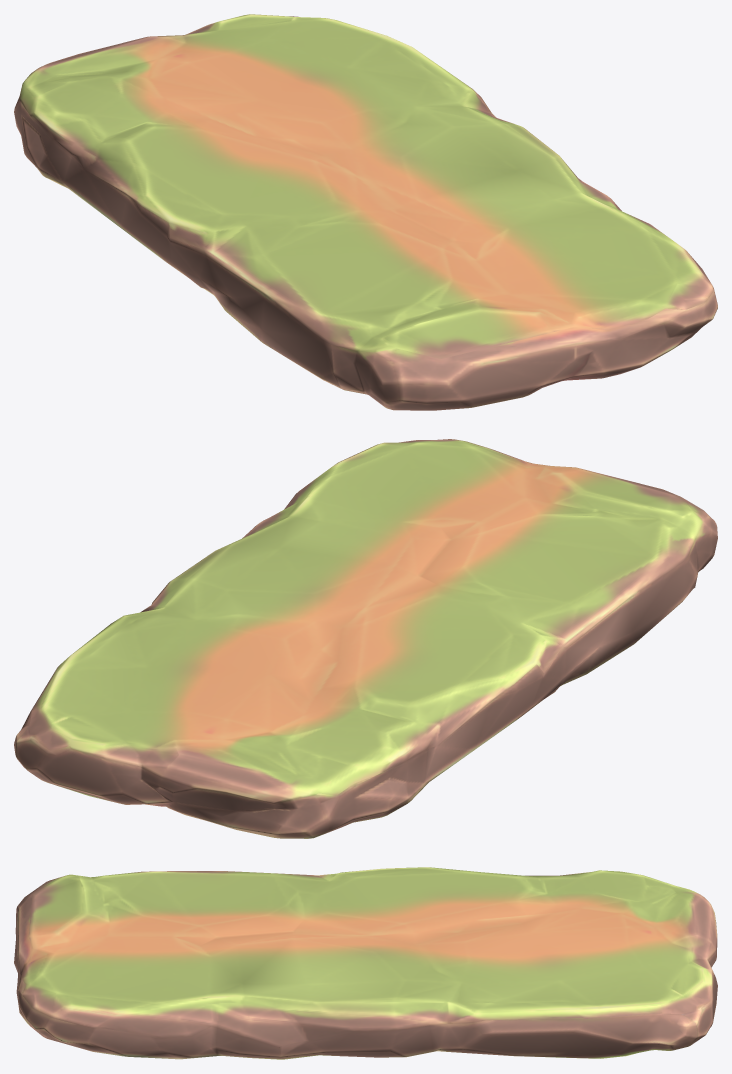
File: Ground block organic.fbx
3 renders of one model, top to bottom at view 1: azimuth 30°, elevation 25°; view 2: azimuth 150°, elevation 25°; view 3: azimuth 270°, elevation 25°, orthographic. The views are drawn at different scales.
Parts seen in each view (by area): view 1: Cube.018; view 2: Cube.018; view 3: Cube.018.
Part boxes in pixels (x1,y1,x2,y2): Cube.018: (14,14,717,410); Cube.018: (14,439,717,838); Cube.018: (14,867,717,1059).
Bounding box in the file's own units: 506 × 101 × 983.
